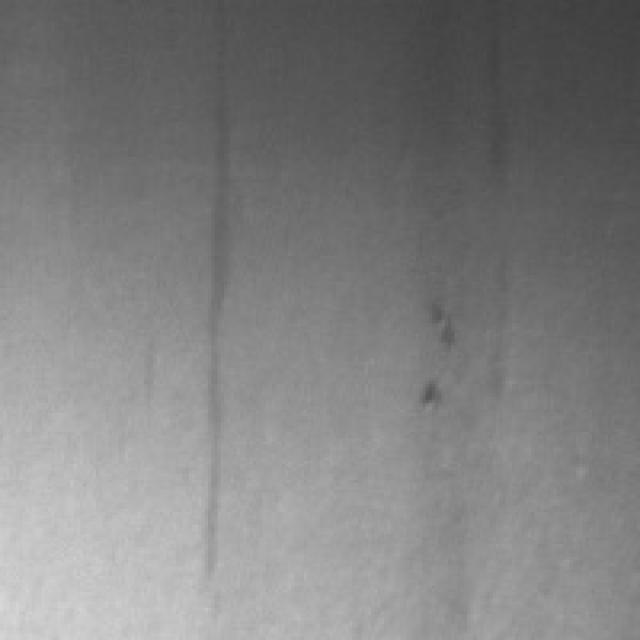inclusion: (170, 3, 247, 595), (454, 3, 528, 215)
